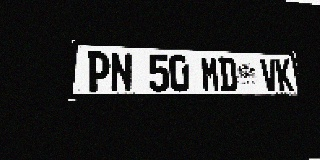0: (169, 55, 190, 92)
5: (148, 54, 170, 92)
D: (218, 57, 238, 91)
K: (275, 59, 294, 91)
M: (200, 56, 221, 92)
N: (110, 52, 132, 92)
P: (86, 51, 110, 92)
V: (260, 58, 279, 91)
